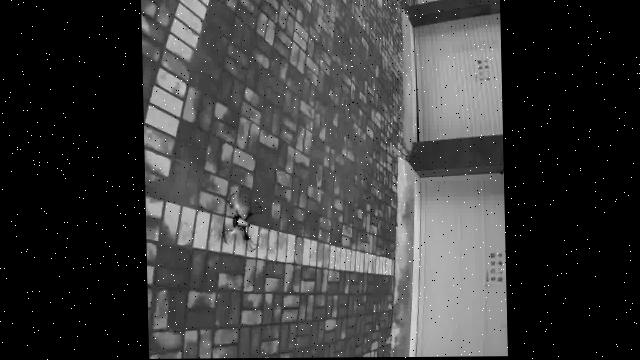drone: (214, 185, 268, 262)
